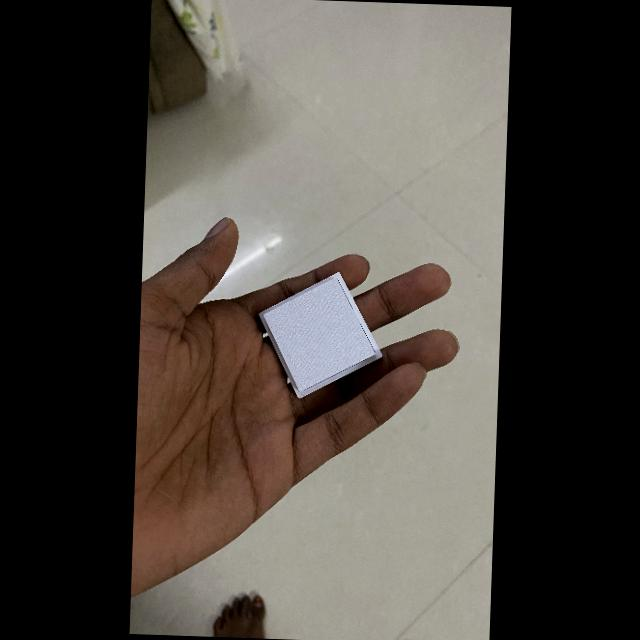RASPBERY PI CAM ENCLOSURE: (261, 273, 380, 398)
